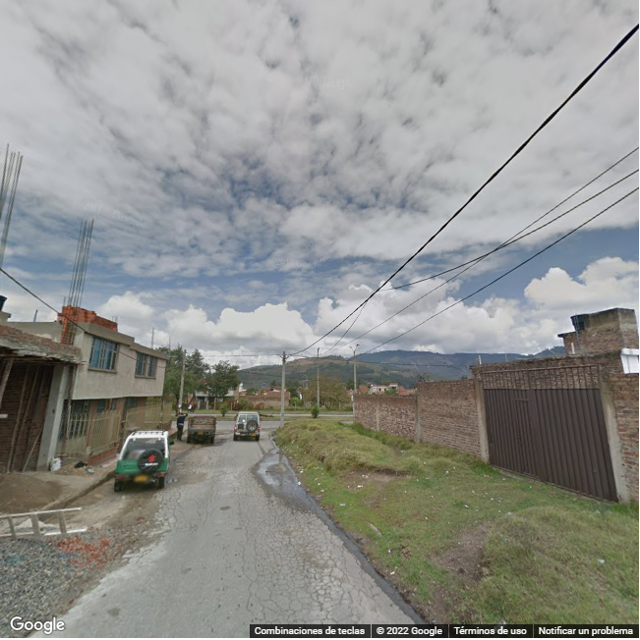D00: (233, 532, 256, 578)
D20: (238, 510, 370, 617)
